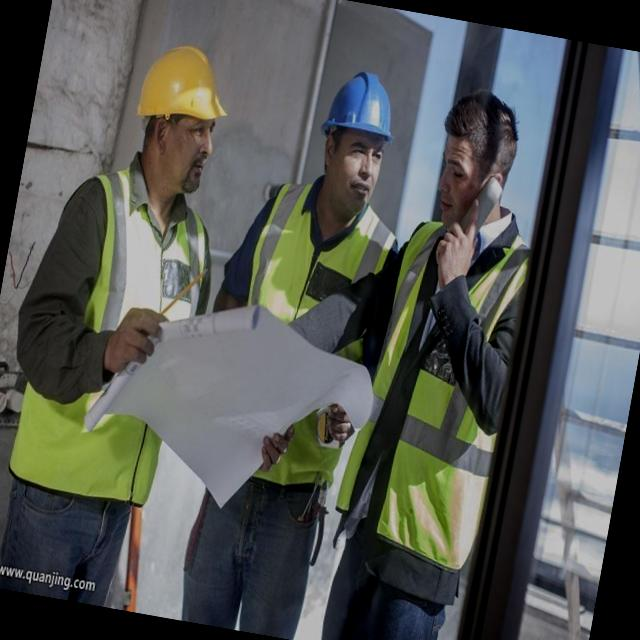helmet: (127, 41, 240, 142), (317, 66, 404, 143)
no-goggles: (134, 104, 232, 160), (426, 145, 503, 203), (320, 127, 392, 176)
no-helmet: (436, 84, 528, 175)
vest: (35, 165, 218, 516), (352, 217, 534, 568), (250, 186, 388, 362)
